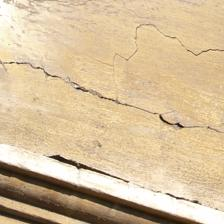Crack: (5, 56, 223, 135), (115, 22, 223, 62)
